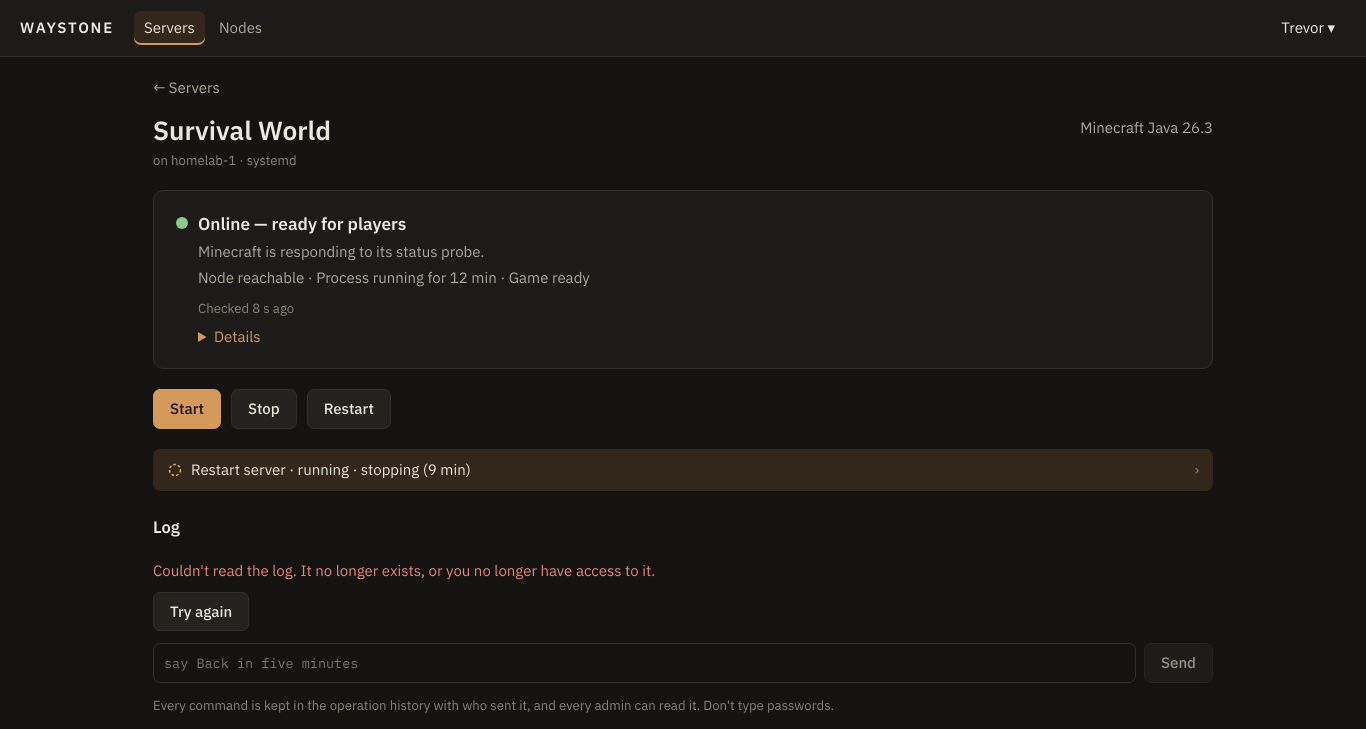
it: server page (wireframes §3) › a refused action says why, and links to the operation in the way
The image size is (1366, 729).
Click the button "Stop": [264, 409] box top-left (231, 389), bottom-right (297, 429)
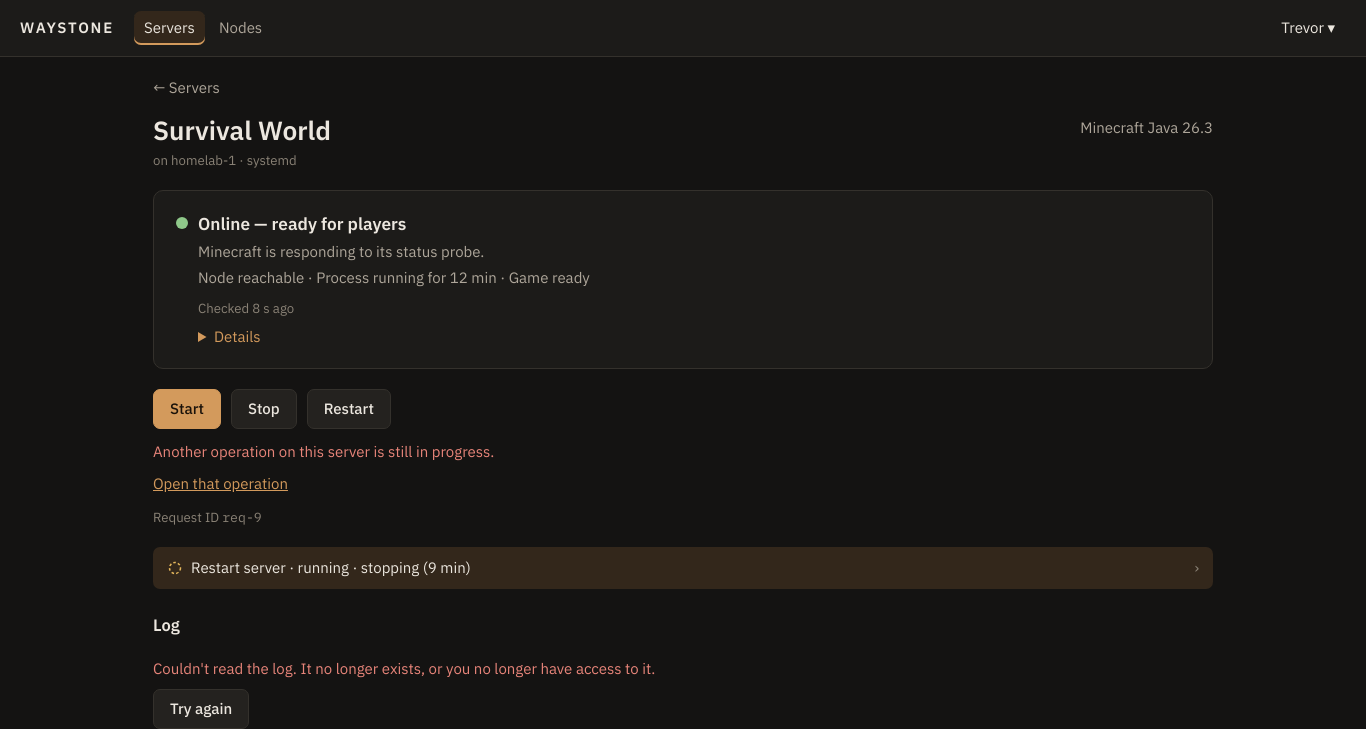
Expected: the text "Another operation on this server is still in progress." is shown, top-left (153, 442), bottom-right (494, 461)
Expected: the text "req-9" is shown, top-left (222, 508), bottom-right (262, 526)
